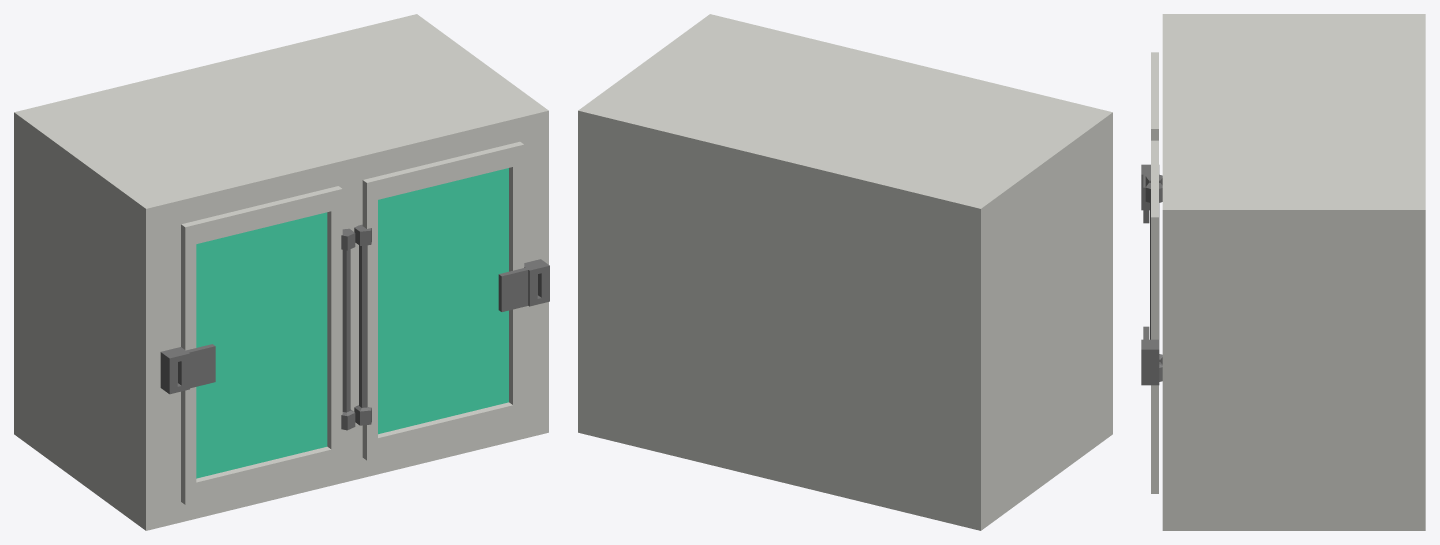
File: armarioduasportas.fbx
The picture shows the model from 3 angles, left to right: view 1: azimuth 30°, elevation 25°; view 2: azimuth 150°, elevation 25°; view 3: azimuth 270°, elevation 25°; orthographic projection.
Parts seen in each view (by area): view 1: frezzer; view 2: frezzer; view 3: frezzer.
Boxes of the visible parts, <box> form: frezzer: <box>14,14,549,530</box>; frezzer: <box>578,14,1112,530</box>; frezzer: <box>1141,14,1425,530</box>.
Size of the model in its own units: 712 by 544 by 437.
